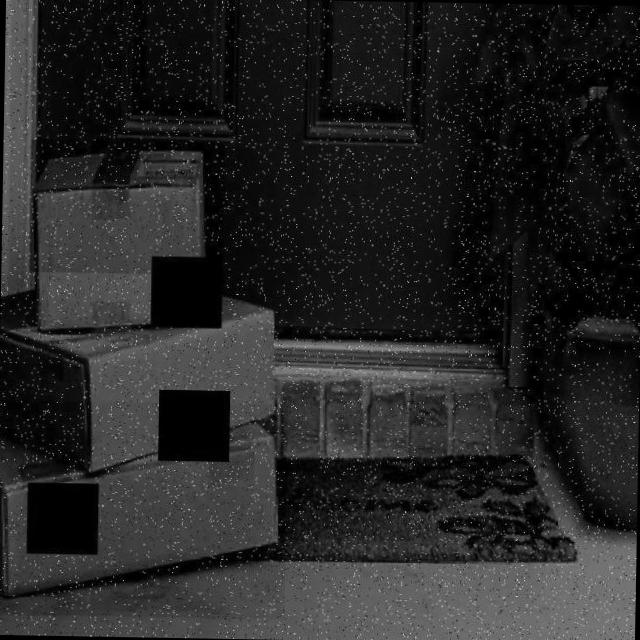box: (0, 400, 287, 619), (0, 270, 293, 479), (27, 138, 225, 356)
